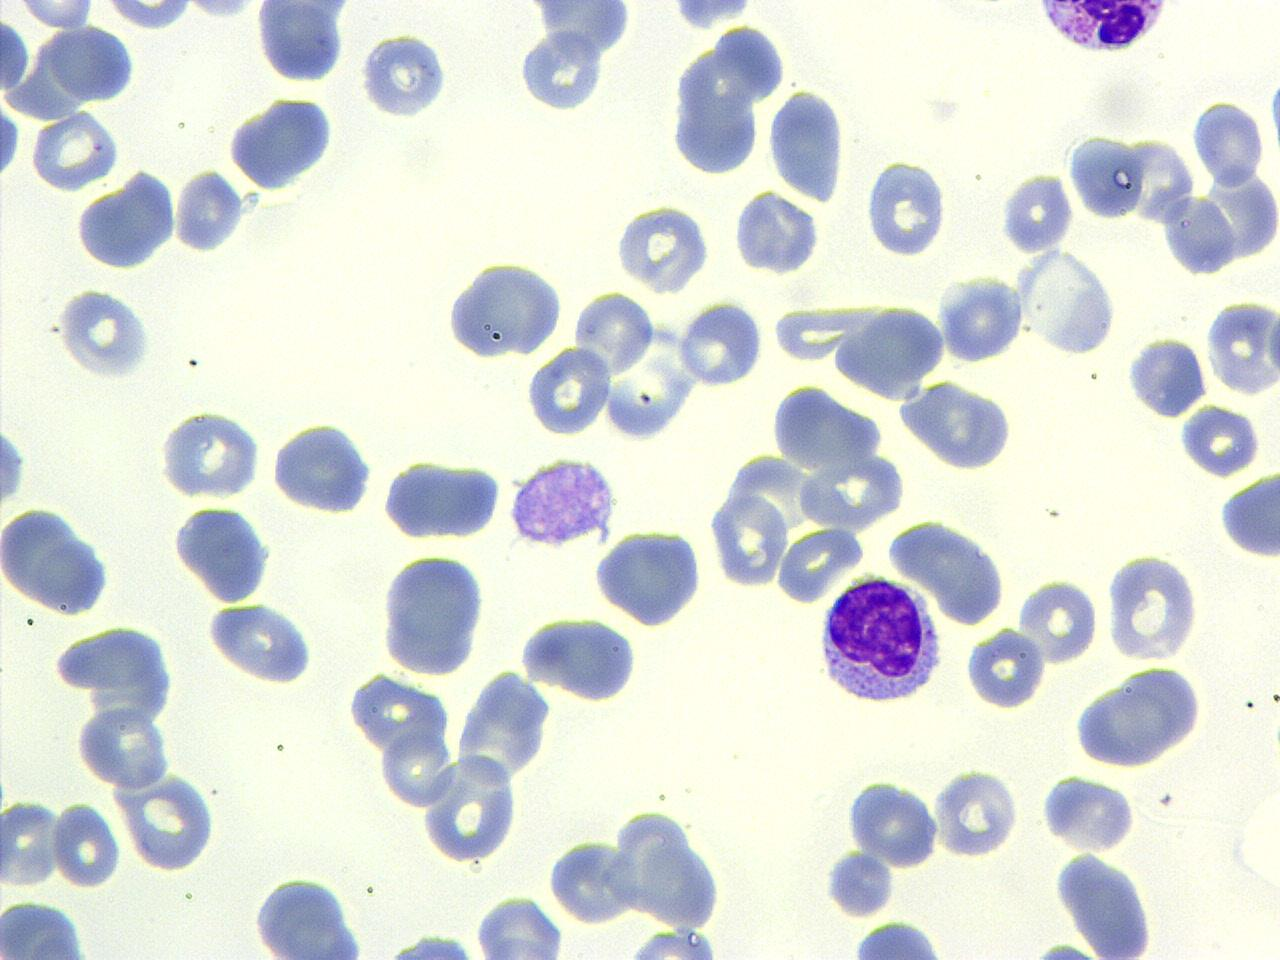Platelets: (766, 86, 850, 202), (56, 286, 153, 383), (357, 28, 454, 124), (934, 766, 1025, 860), (962, 626, 1046, 710), (997, 168, 1075, 254), (171, 168, 247, 256), (1177, 402, 1265, 478), (820, 847, 894, 917), (670, 0, 754, 32), (1, 12, 30, 96), (0, 424, 28, 509), (0, 100, 23, 183), (186, 0, 257, 22), (1032, 940, 1094, 960), (1268, 70, 1280, 152)
RBC: (1015, 245, 1121, 355), (1103, 550, 1201, 664), (115, 772, 219, 872), (204, 597, 316, 688), (158, 409, 262, 500), (57, 287, 154, 382), (848, 775, 940, 871), (73, 704, 174, 788), (572, 285, 658, 383), (710, 488, 790, 592), (935, 271, 1025, 364), (677, 296, 767, 388), (932, 766, 1020, 860), (524, 345, 612, 438), (1016, 572, 1101, 668), (29, 107, 121, 192), (545, 840, 634, 926), (1205, 294, 1277, 399), (964, 622, 1046, 712), (1066, 131, 1144, 220), (1192, 97, 1266, 190), (998, 168, 1076, 255), (1124, 130, 1194, 224), (471, 892, 568, 958), (49, 800, 121, 888), (1, 794, 60, 888), (98, 0, 197, 33), (0, 9, 30, 98), (16, 0, 97, 30), (0, 91, 23, 194), (181, 0, 258, 23)
WBC: (606, 241, 1262, 960), (0, 0, 457, 342), (534, 800, 740, 955), (0, 5, 147, 186), (666, 14, 785, 178), (816, 572, 946, 711), (888, 507, 1016, 636), (510, 1, 640, 118), (378, 548, 492, 679), (1072, 662, 1206, 771), (0, 502, 119, 618), (443, 254, 567, 362), (49, 620, 178, 718), (454, 664, 558, 784), (412, 752, 524, 864), (592, 524, 708, 630), (224, 90, 341, 195), (1051, 850, 1159, 959), (1103, 548, 1203, 664), (73, 164, 180, 272), (506, 452, 622, 552), (517, 612, 642, 704), (769, 383, 886, 479), (250, 870, 374, 960), (269, 416, 379, 516), (900, 381, 1016, 475), (171, 502, 276, 605), (610, 198, 716, 298), (156, 406, 265, 503), (1025, 246, 1119, 358), (204, 600, 321, 688), (53, 283, 156, 382), (356, 27, 454, 125), (765, 88, 849, 202), (380, 454, 484, 545), (863, 153, 949, 261), (844, 777, 942, 869), (731, 188, 826, 278), (544, 832, 634, 928), (70, 706, 173, 789), (677, 294, 765, 390), (1028, 1, 1176, 57), (1038, 772, 1140, 854), (526, 345, 612, 439), (252, 1, 349, 84), (42, 25, 141, 105), (1124, 334, 1208, 421), (471, 894, 575, 960), (998, 169, 1074, 257), (172, 165, 246, 256), (0, 897, 99, 960), (1217, 467, 1279, 564), (838, 916, 964, 958), (603, 924, 742, 958), (364, 928, 494, 959), (98, 0, 200, 32)
